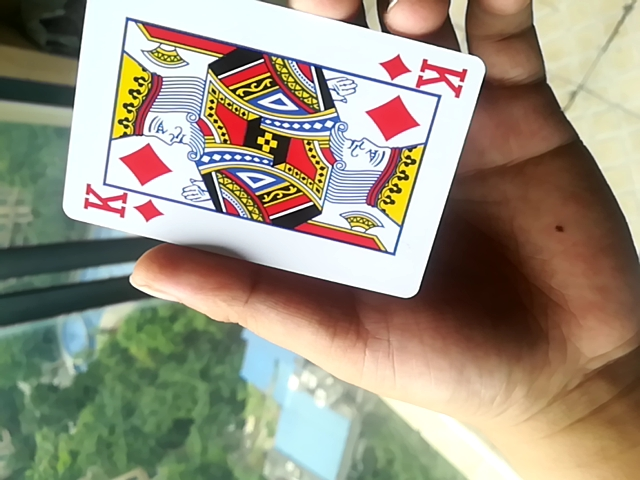fk k: (60, 2, 491, 303)
